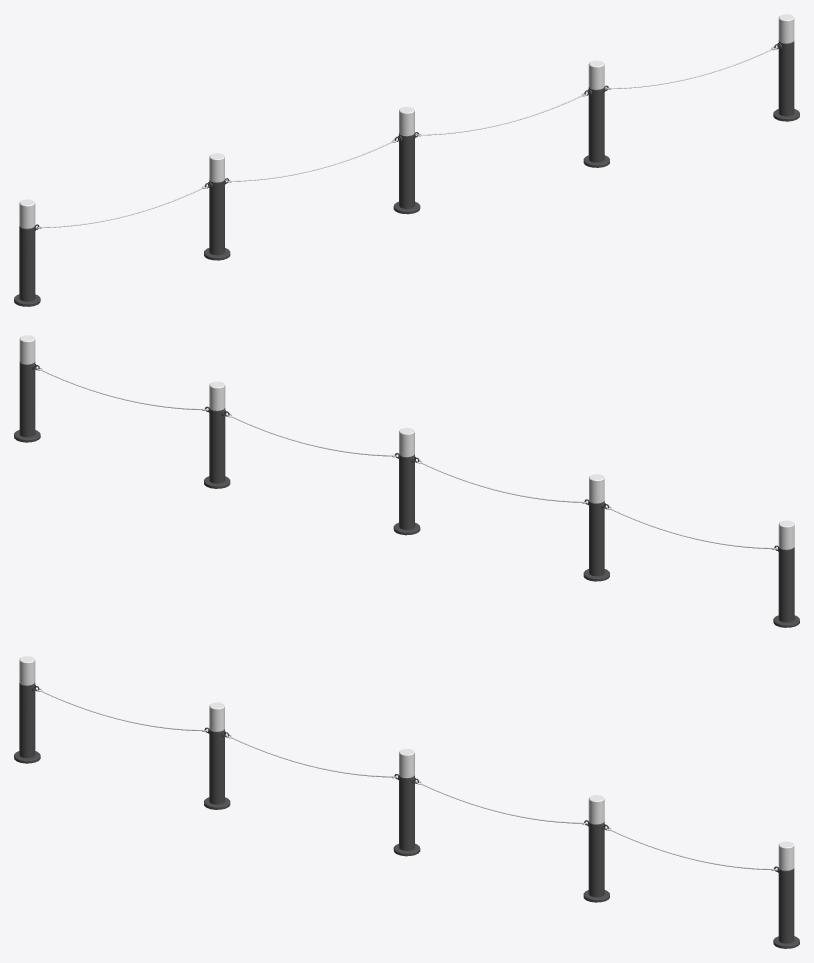
Rendered from Baricate.glb.
3 renders of one model, top to bottom at view 1: azimuth 30°, elevation 25°; view 2: azimuth 150°, elevation 25°; view 3: azimuth 330°, elevation 25°, orthographic.
Visible parts, largest first — view 1: bollards, caps, cable; view 2: bollards, caps, cable; view 3: bollards, caps, cable.
Boxes of the visible parts, left/top/right/bottom form: bollards: left=14, top=41, right=799, bottom=306; caps: left=19, top=14, right=794, bottom=228; cable: left=36, top=46, right=776, bottom=228; bollards: left=14, top=362, right=799, bottom=627; caps: left=19, top=335, right=794, bottom=549; cable: left=37, top=367, right=777, bottom=549; bollards: left=14, top=683, right=799, bottom=948; caps: left=19, top=656, right=794, bottom=870; cable: left=36, top=688, right=776, bottom=870.
Size of the model in its own units: 0.8546 by 0.103 by 0.0254.
Materials: 3 (1 with a texture image).
